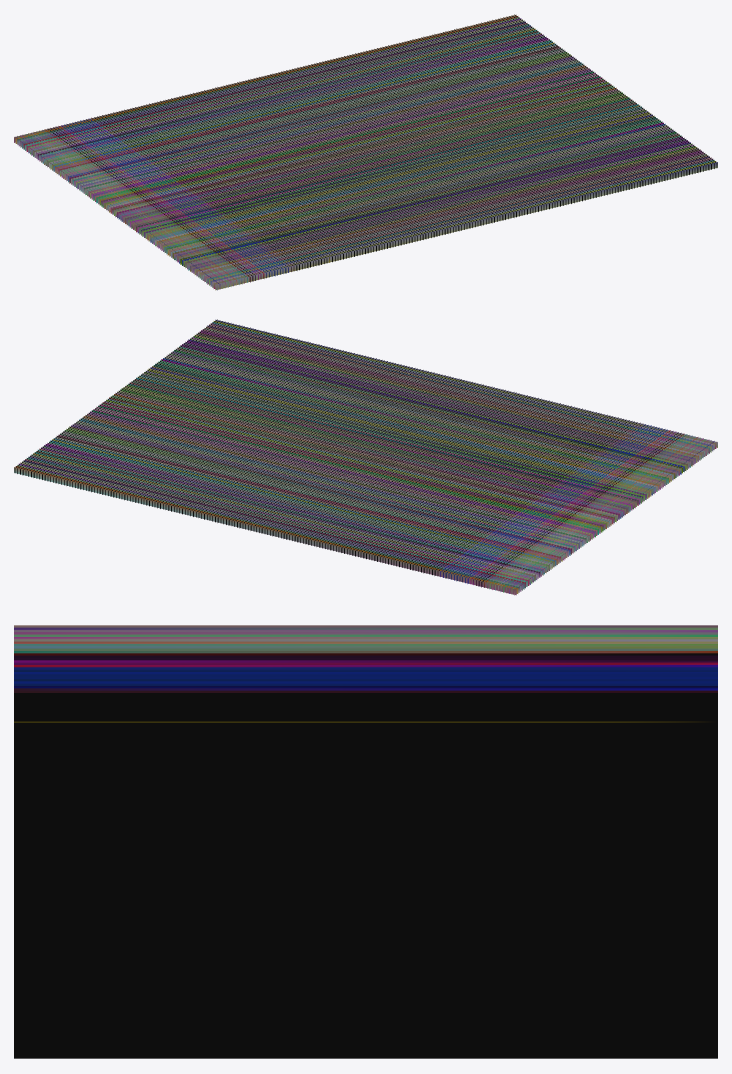
Rendered from Grass_Side.gltf.
3 renders of one model, top to bottom at view 1: azimuth 30°, elevation 25°; view 2: azimuth 150°, elevation 25°; view 3: azimuth 270°, elevation 25°, orthographic. The views are drawn at different scales.
Visible parts, largest first — view 1: Grass_Side; view 2: Grass_Side; view 3: Grass_Side.
Boxes of the visible parts, left/top/right/bottom form: Grass_Side: left=14, top=14, right=717, bottom=290; Grass_Side: left=14, top=319, right=717, bottom=595; Grass_Side: left=14, top=625, right=717, bottom=1058.
Size of the model in its own units: 7.32 by 0.08 by 5.12.
